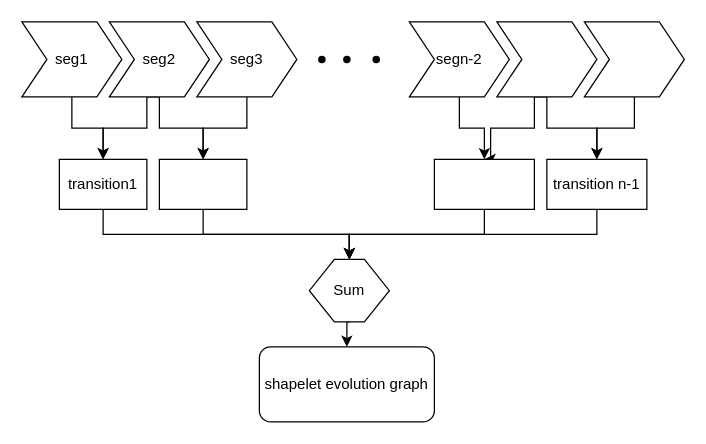
Some shapes in this 706 by 444 pixel diagram are drawn without their labels. The centre of each missing label's shape, as x and y in pixels:
"segn" goes at (633,59).
"segn-1" goes at (546,59).
"transition 2" goes at (202,183).
"transition n-2" goes at (483,183).
